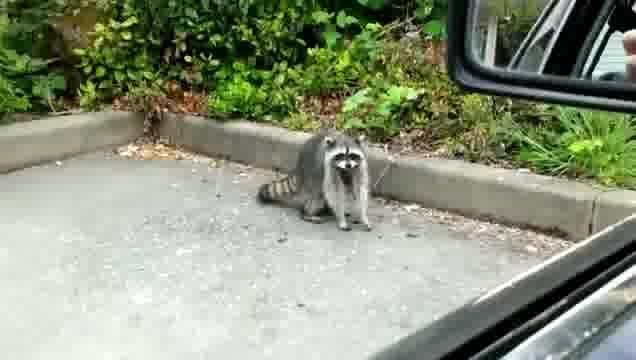raccoon: (256, 127, 375, 234)
